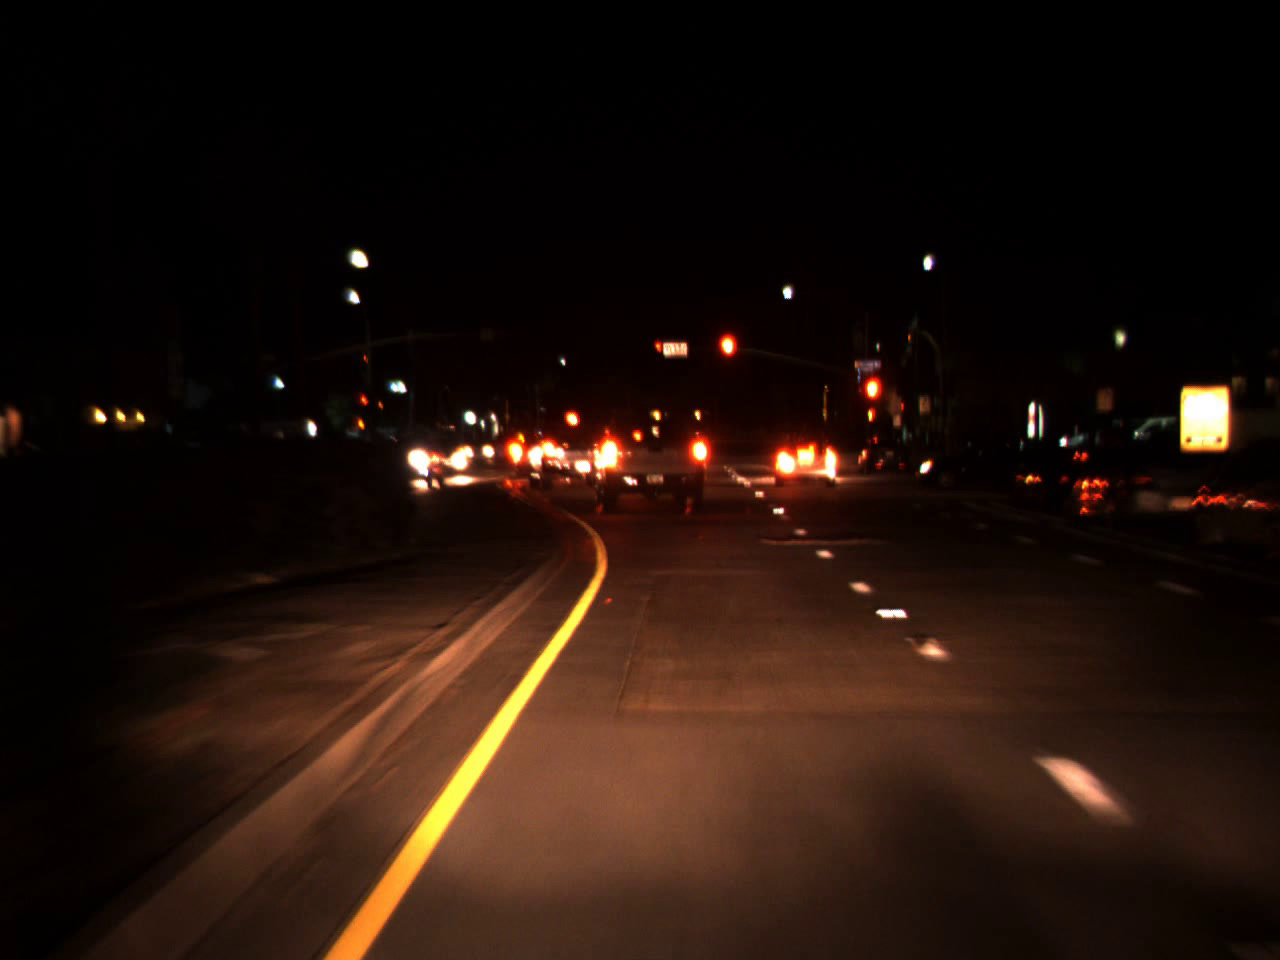stop: (716, 328, 740, 387), (861, 372, 885, 431), (654, 339, 663, 366), (360, 394, 369, 415)
